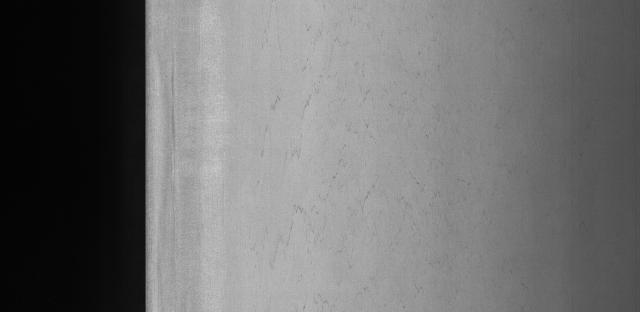silk_spot: (252, 29, 414, 269)
